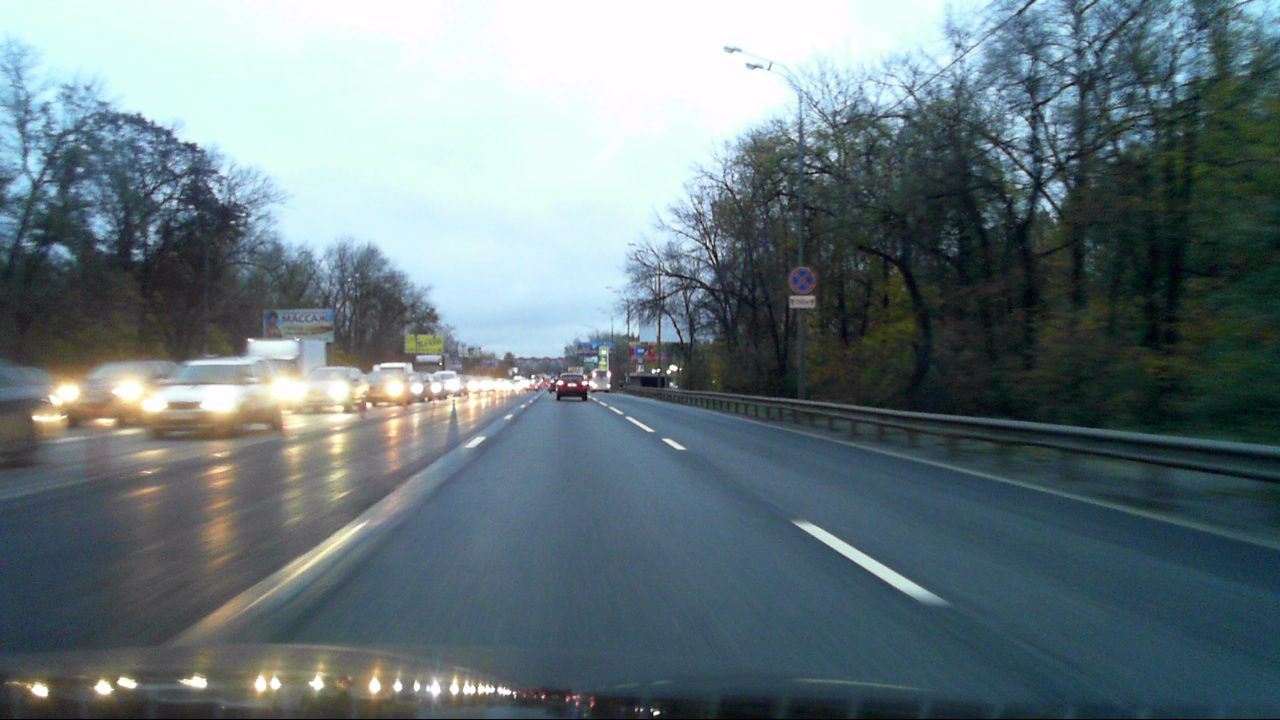No Parking: (788, 267, 815, 294)
